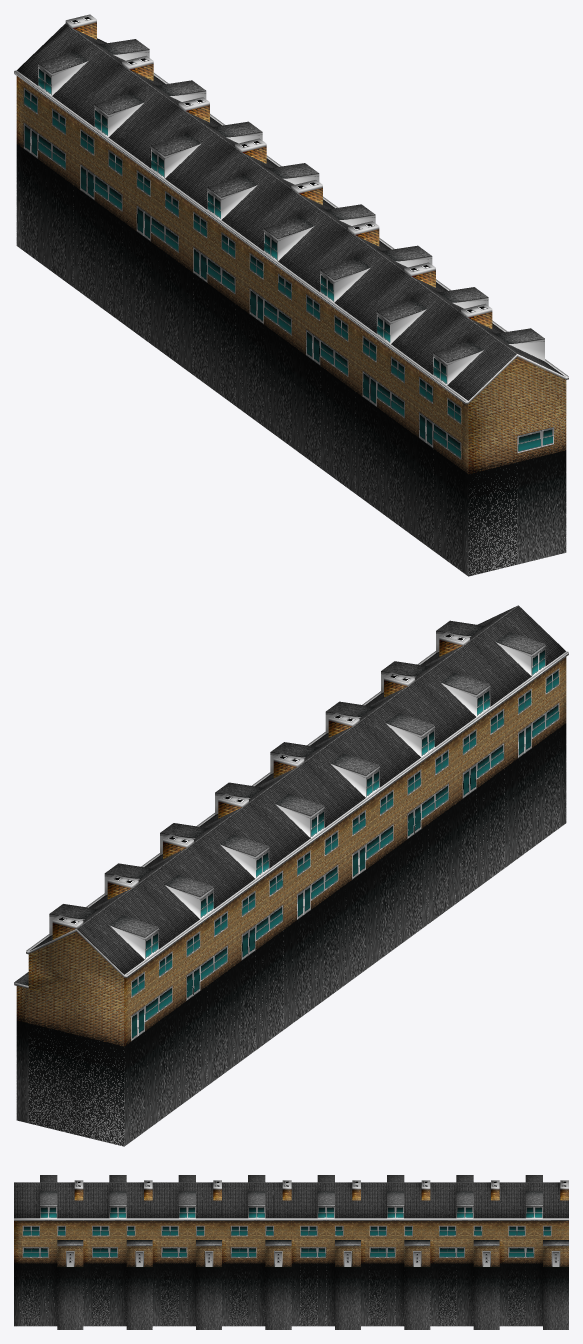
File: doorzon_mod2_4b.fbx
3 views of the same model, one above another, from view 1: azimuth 30°, elevation 25°; view 2: azimuth 150°, elevation 25°; view 3: azimuth 270°, elevation 25° (orthographic). The views are drawn at different scales.
Parts seen in each view (by area): view 1: doorzon_mod2_4b; view 2: doorzon_mod2_4b; view 3: doorzon_mod2_4b.
Part boxes in pixels (<box>): doorzon_mod2_4b: <box>14,14,568,576</box>; doorzon_mod2_4b: <box>14,605,568,1146</box>; doorzon_mod2_4b: <box>14,1175,568,1329</box>.
Size of the model in its own units: 1062 by 1879 by 7200.
